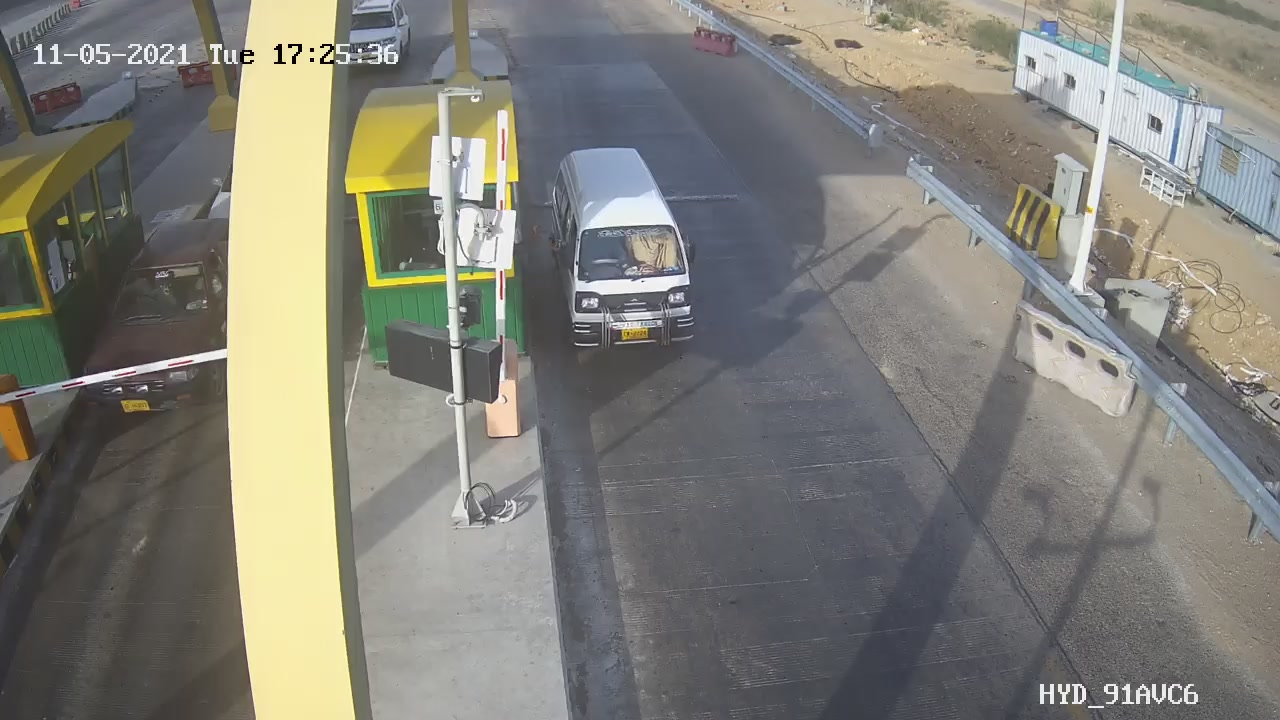F1: (529, 131, 713, 373)
